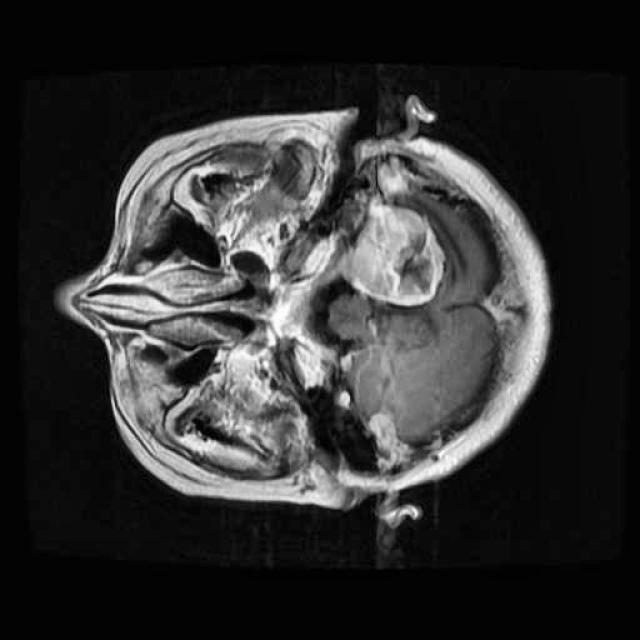Tumor: (321, 183, 454, 320)
